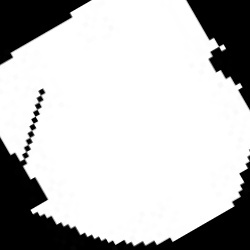spot: (0, 1, 249, 246)
